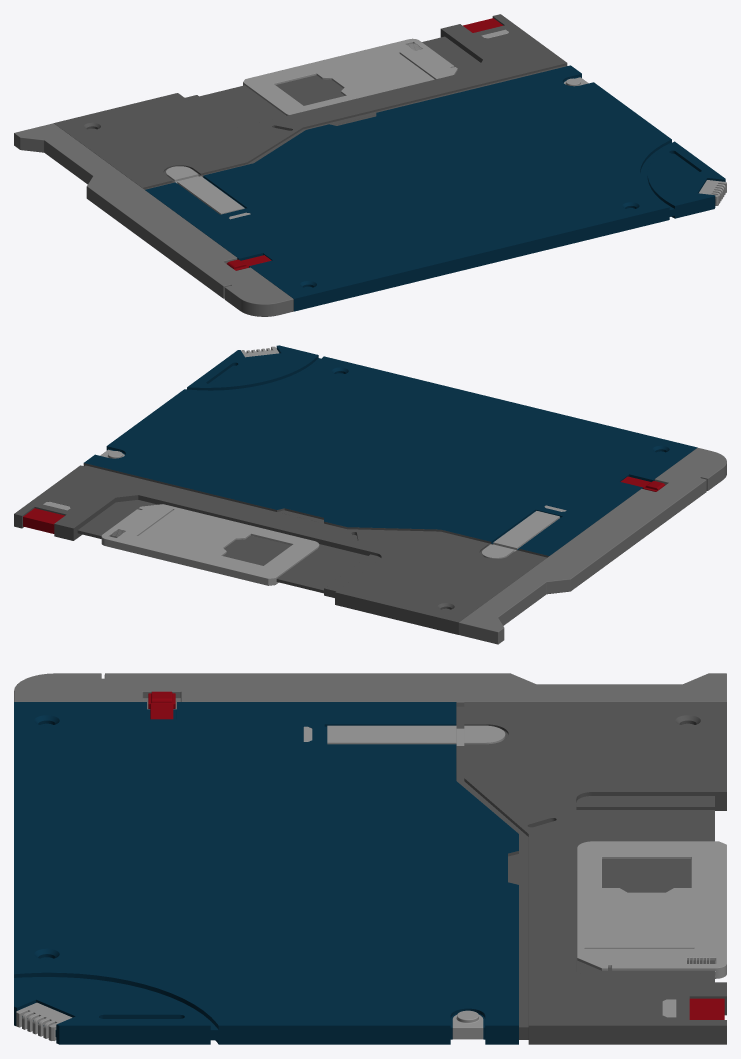
The picture shows the model from 3 angles, top to bottom: view 1: azimuth 30°, elevation 25°; view 2: azimuth 150°, elevation 25°; view 3: azimuth 270°, elevation 25°; orthographic projection. The views are drawn at different scales.
Visible parts, largest first — view 1: Main_HP, MetalLeft_HP, MoveMetalPiece_HP; view 2: Main_HP, MetalLeft_HP, MoveMetalPiece_HP; view 3: Main_HP, MetalLeft_HP, MoveMetalPiece_HP, BottomMetalPiece_HP, RoundMetalPiece_HP, Slider_HP.
Part boxes in pixels (bbox=[...]): Main_HP: bbox=[54, 14, 725, 311]; MetalLeft_HP: bbox=[14, 123, 293, 316]; MoveMetalPiece_HP: bbox=[243, 38, 457, 115]; Main_HP: bbox=[14, 345, 697, 634]; MetalLeft_HP: bbox=[458, 447, 726, 644]; MoveMetalPiece_HP: bbox=[101, 504, 319, 585]; Main_HP: bbox=[14, 702, 726, 1044]; MetalLeft_HP: bbox=[14, 673, 726, 709]; MoveMetalPiece_HP: bbox=[577, 841, 726, 978]; BottomMetalPiece_HP: bbox=[16, 1002, 72, 1040]; RoundMetalPiece_HP: bbox=[452, 1010, 483, 1039]; Slider_HP: bbox=[148, 691, 175, 719].
Bounding box in the file's own units: 4 × 0.1186 × 3.42.
